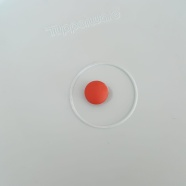Dolorex: (84, 80, 109, 106)
